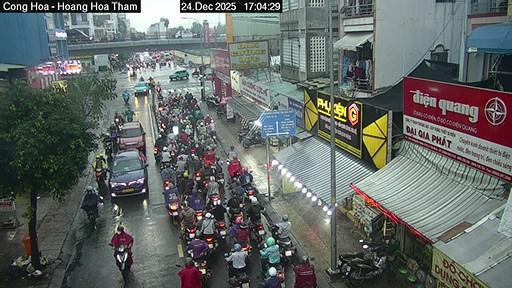motorbike: (336, 238, 391, 275), (348, 252, 386, 286), (268, 224, 295, 262), (82, 196, 102, 228), (115, 244, 130, 279), (194, 256, 211, 286), (261, 257, 284, 279), (229, 261, 248, 287), (242, 133, 265, 147), (250, 223, 265, 243), (167, 201, 178, 224), (204, 234, 217, 251), (96, 167, 105, 189), (185, 225, 195, 243), (243, 183, 255, 198), (217, 220, 226, 238), (236, 130, 249, 142), (205, 95, 218, 107), (103, 140, 112, 157), (208, 193, 220, 205), (239, 242, 249, 253), (115, 116, 122, 130), (153, 147, 160, 161), (217, 104, 225, 115), (195, 210, 202, 220), (163, 179, 170, 189), (122, 93, 128, 103), (195, 171, 201, 180), (259, 242, 265, 248), (224, 251, 230, 256), (188, 251, 192, 256)
